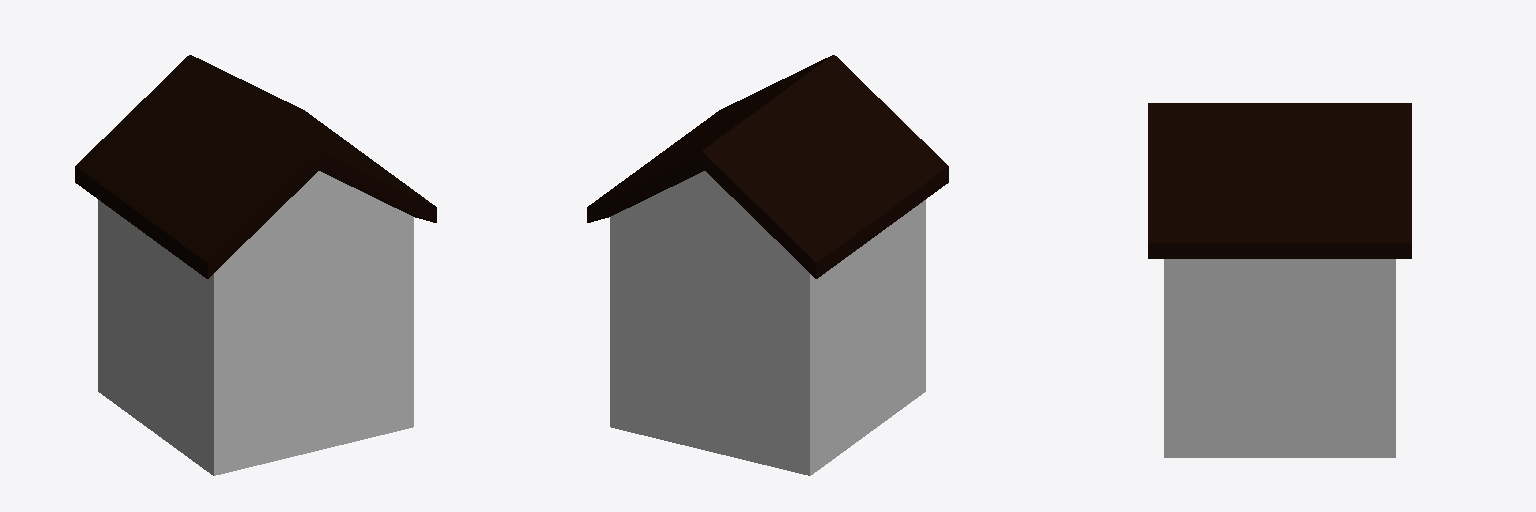
The model's file is simple_house.obj.
3 views of the same model, side by side, from view 1: azimuth 30°, elevation 25°; view 2: azimuth 150°, elevation 25°; view 3: azimuth 270°, elevation 25° (orthographic).
Visible parts, largest first — view 1: Cube, Cube.001; view 2: Cube, Cube.001; view 3: Cube, Cube.001.
Part boxes in pixels (x1,y1,x2,y2): Cube: (75,166,413,475); Cube.001: (76,55,436,278); Cube: (610,166,948,475); Cube.001: (587,55,947,278); Cube: (1164,259,1395,457); Cube.001: (1148,103,1411,258).
Size of the model in its own units: 2.29 by 2.92 by 2.29.